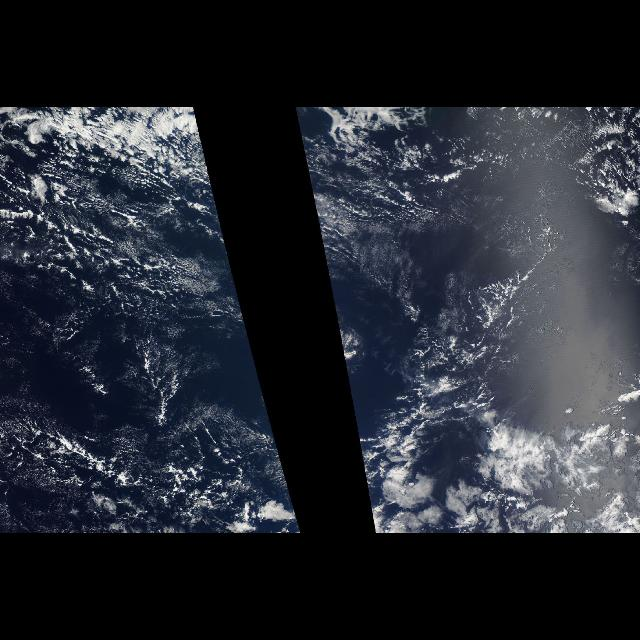Gravel: (0, 206, 210, 318)
